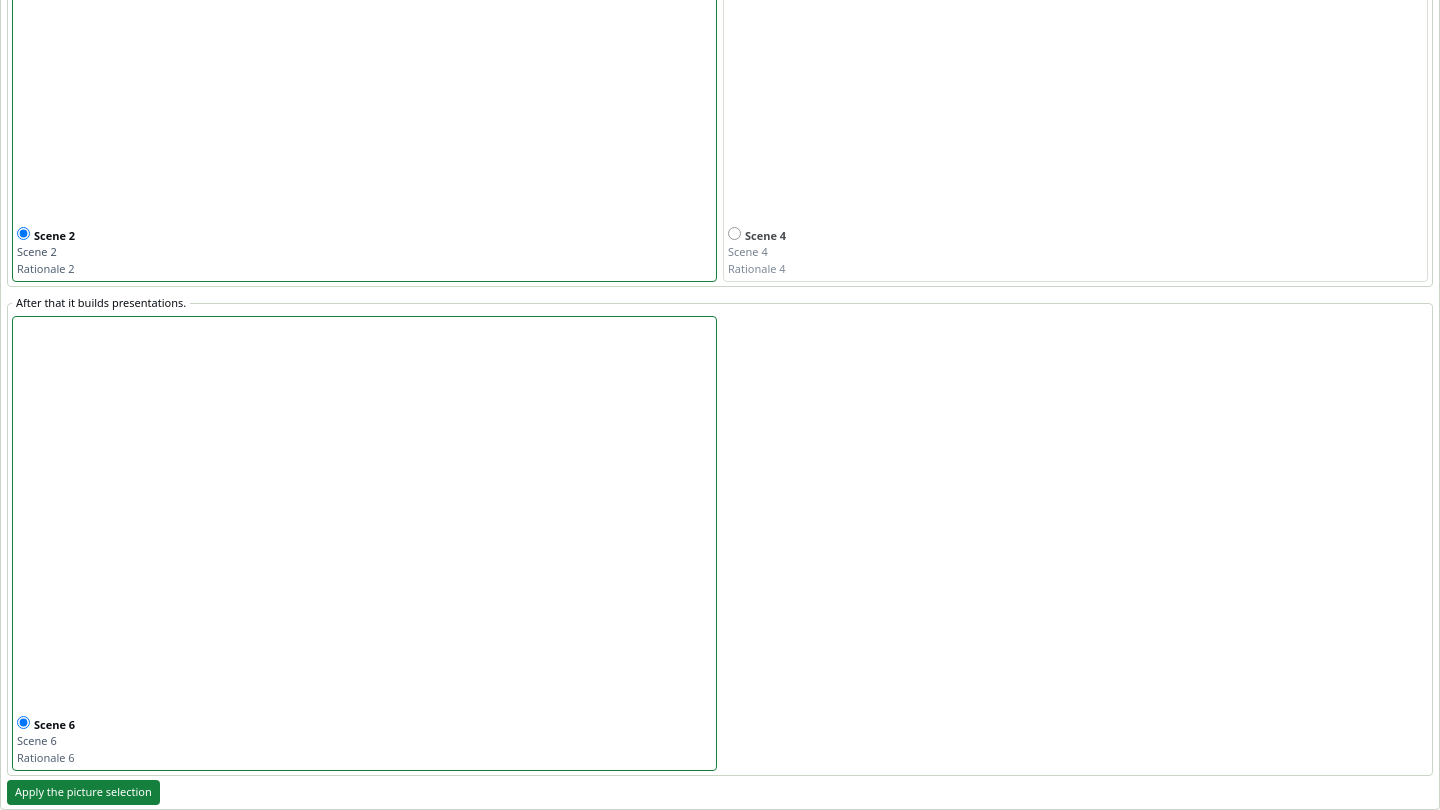
VisualSelectionCard › disables inputs and confirm while the request is in flight
(page scrolled)
Click the button "Apply the picture selection" at (83, 793), box [7,780,160,805]
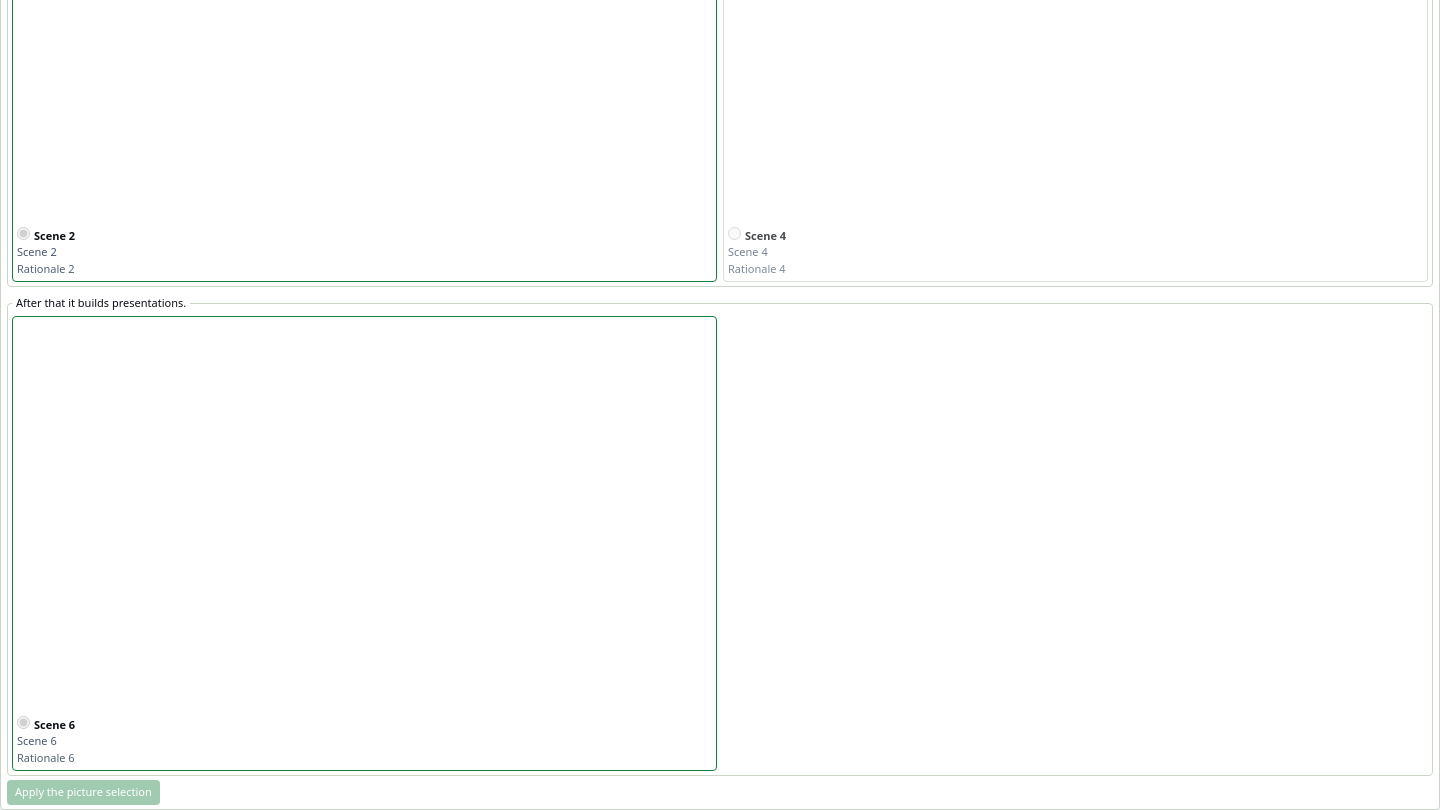
Expected: the button "Apply the picture selection" is disabled, [7,780,160,805]
Expected: the radio button with test id "visual-candidate-candidate-1" is disabled, [17,227,30,240]
